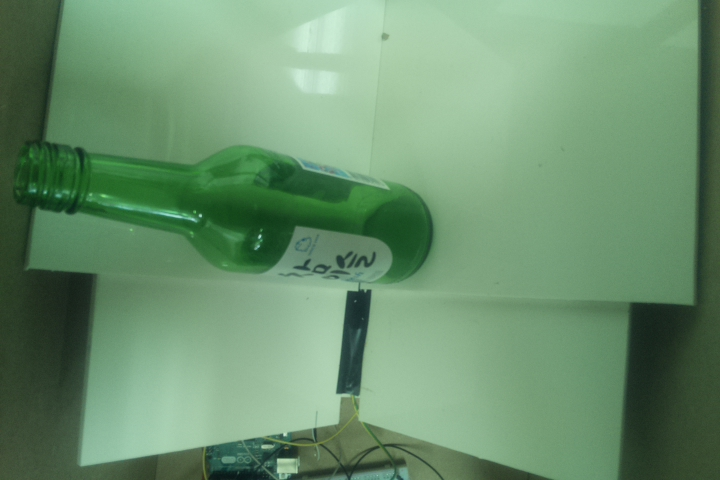soju: (14, 138, 433, 287)
